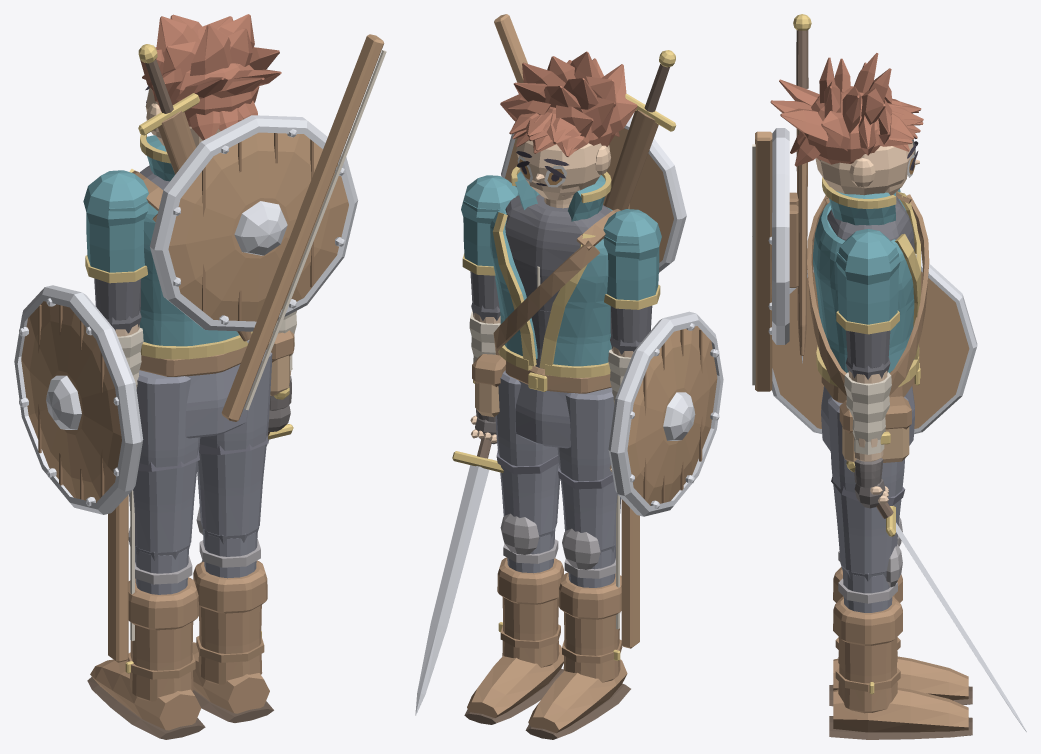
The model's file is heroi_npr.fbx.
3 renders of one model, left to right at view 1: azimuth 30°, elevation 25°; view 2: azimuth 150°, elevation 25°; view 3: azimuth 270°, elevation 25°, orthographic. The views are drawn at different scales.
Parts seen in each view (by area): view 1: Tórax~Escudo Costas Tábuas@wood, Cotovelo E~Escudo Tábuas@wood, Perna E~Coxa E@pants, Tórax~Arco Costas@wood, Tórax~Escudo Costas Aro@steel, Perna D~Coxa D@pants, Cotovelo E~Escudo Aro@steel, Tórax~Jaqueta@tunic, Joelho D~Bota Cano D@boots, Joelho E~Bota Cano E@boots, Pulso E~Arco@wood, Tornozelo E~Bota Pé E@boots (+34 smaller); view 2: Cotovelo E~Escudo Tábuas@wood, Perna E~Coxa E@pants, Tórax~Jaqueta@tunic, Cotovelo E~Escudo Aro@steel, Perna D~Coxa D@pants, Tórax~Peito@shirt, Pulso D~Arma Lâmina@steel, Tornozelo E~Bota Pé E@boots, Tornozelo D~Bota Pé D@boots, Joelho D~Bota Cano D@boots, Tórax~Escudo Costas Tábuas@wood, Quadril~Pelve@pants (+52 smaller); view 3: Cotovelo E~Escudo Tábuas@wood, Perna D~Coxa D@pants, Tórax~Jaqueta@tunic, Tórax~Arco Costas@wood, Tornozelo D~Bota Pé D@boots, Tórax~Escudo Costas Aro@steel, Joelho D~Bota Cano D@boots, Braço D~Ombro D@tunic, Braço D~Manga Jaqueta D@tunic, Cotovelo D~Faixa D@cream, Cabeça~Crânio@skin, Joelho D~Bota Dobra D@boots (+38 smaller).
Part boxes in pixels (left/top/right/bottom): Tórax~Escudo Costas Tábuas@wood: left=168, top=132, right=348, bottom=321; Cotovelo E~Escudo Tábuas@wood: left=21, top=301, right=121, bottom=502; Perna E~Coxa E@pants: left=129, top=370, right=200, bottom=553; Tórax~Arco Costas@wood: left=221, top=34, right=384, bottom=421; Tórax~Escudo Costas Aro@steel: left=150, top=115, right=358, bottom=331; Perna D~Coxa D@pants: left=197, top=349, right=272, bottom=536; Cotovelo E~Escudo Aro@steel: left=14, top=285, right=143, bottom=514; Tórax~Jaqueta@tunic: left=139, top=203, right=239, bottom=346; Joelho D~Bota Cano D@boots: left=198, top=605, right=262, bottom=684; Joelho E~Bota Cano E@boots: left=129, top=621, right=193, bottom=701; Pulso E~Arco@wood: left=108, top=495, right=128, bottom=662; Tornozelo E~Bota Pé E@boots: left=90, top=659, right=201, bottom=730; Cotovelo E~Escudo Tábuas@wood: left=627, top=326, right=717, bottom=505; Perna E~Coxa E@pants: left=557, top=387, right=621, bottom=550; Tórax~Jaqueta@tunic: left=490, top=207, right=612, bottom=366; Cotovelo E~Escudo Aro@steel: left=608, top=311, right=723, bottom=516; Perna D~Coxa D@pants: left=495, top=370, right=560, bottom=535; Tórax~Peito@shirt: left=505, top=194, right=611, bottom=311; Pulso D~Arma Lâmina@steel: left=415, top=465, right=489, bottom=715; Tornozelo E~Bota Pé E@boots: left=528, top=659, right=627, bottom=733; Tornozelo D~Bota Pé D@boots: left=467, top=644, right=563, bottom=717; Joelho D~Bota Cano D@boots: left=502, top=597, right=559, bottom=667; Tórax~Escudo Costas Tábuas@wood: left=505, top=128, right=673, bottom=262; Quadril~Pelve@pants: left=515, top=381, right=570, bottom=448; Cotovelo E~Escudo Tábuas@wood: left=772, top=271, right=969, bottom=428; Perna D~Coxa D@pants: left=828, top=396, right=908, bottom=574; Tórax~Jaqueta@tunic: left=813, top=199, right=914, bottom=372; Tórax~Arco Costas@wood: left=755, top=131, right=772, bottom=391; Tornozelo D~Bota Pé D@boots: left=833, top=687, right=968, bottom=732; Tórax~Escudo Costas Aro@steel: left=772, top=128, right=789, bottom=344; Joelho D~Bota Cano D@boots: left=838, top=637, right=897, bottom=713; Braço D~Ombro D@tunic: left=835, top=229, right=900, bottom=284; Braço D~Manga Jaqueta D@tunic: left=837, top=251, right=898, bottom=324; Cotovelo D~Faixa D@cream: left=844, top=372, right=891, bottom=454; Cabeça~Crânio@skin: left=815, top=139, right=914, bottom=195; Joelho D~Bota Dobra D@boots: left=833, top=596, right=902, bottom=645.
Size of the model in its own units: 0.7555 by 1.89 by 0.7106.
